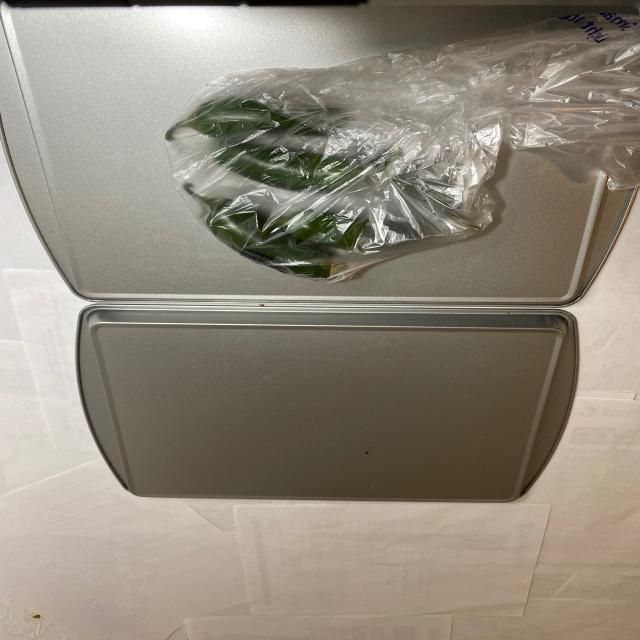chilli: (165, 77, 480, 285)
